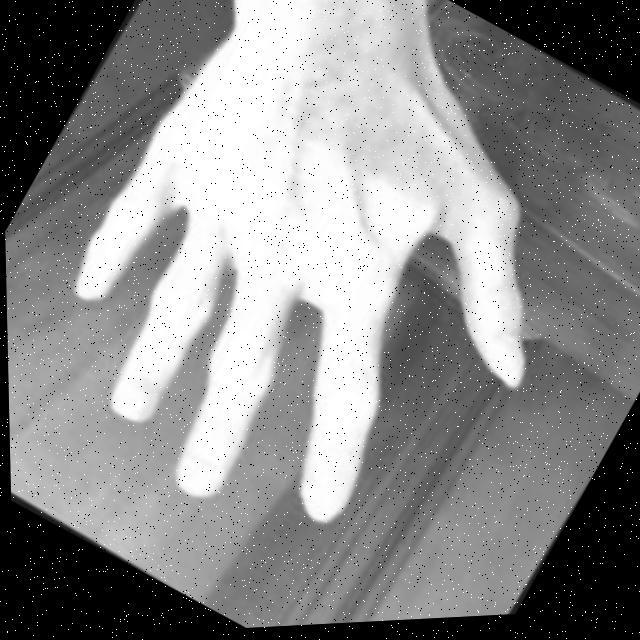no-gloves: (0, 0, 631, 629)
